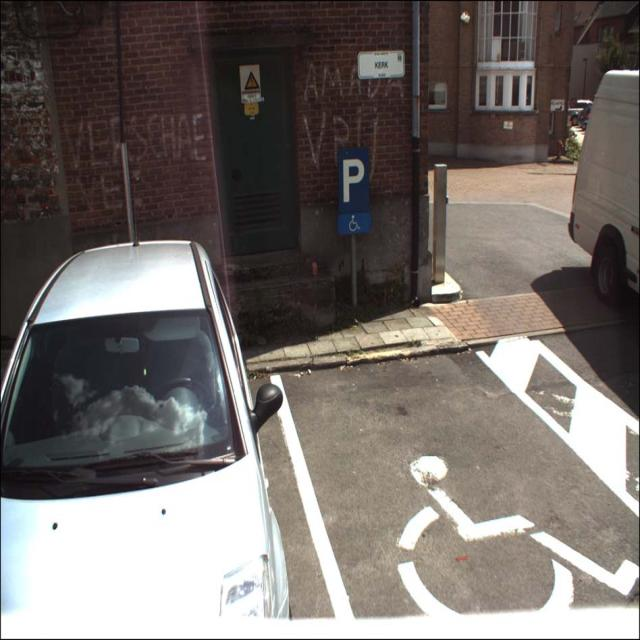park: (339, 150, 368, 212)
